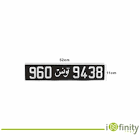plate: (24, 65, 107, 81)
